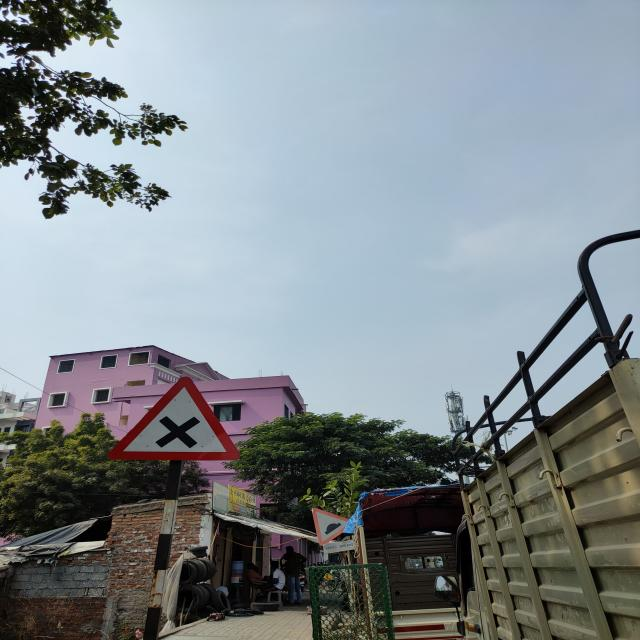CROSS_ROAD: (100, 376, 246, 466)
